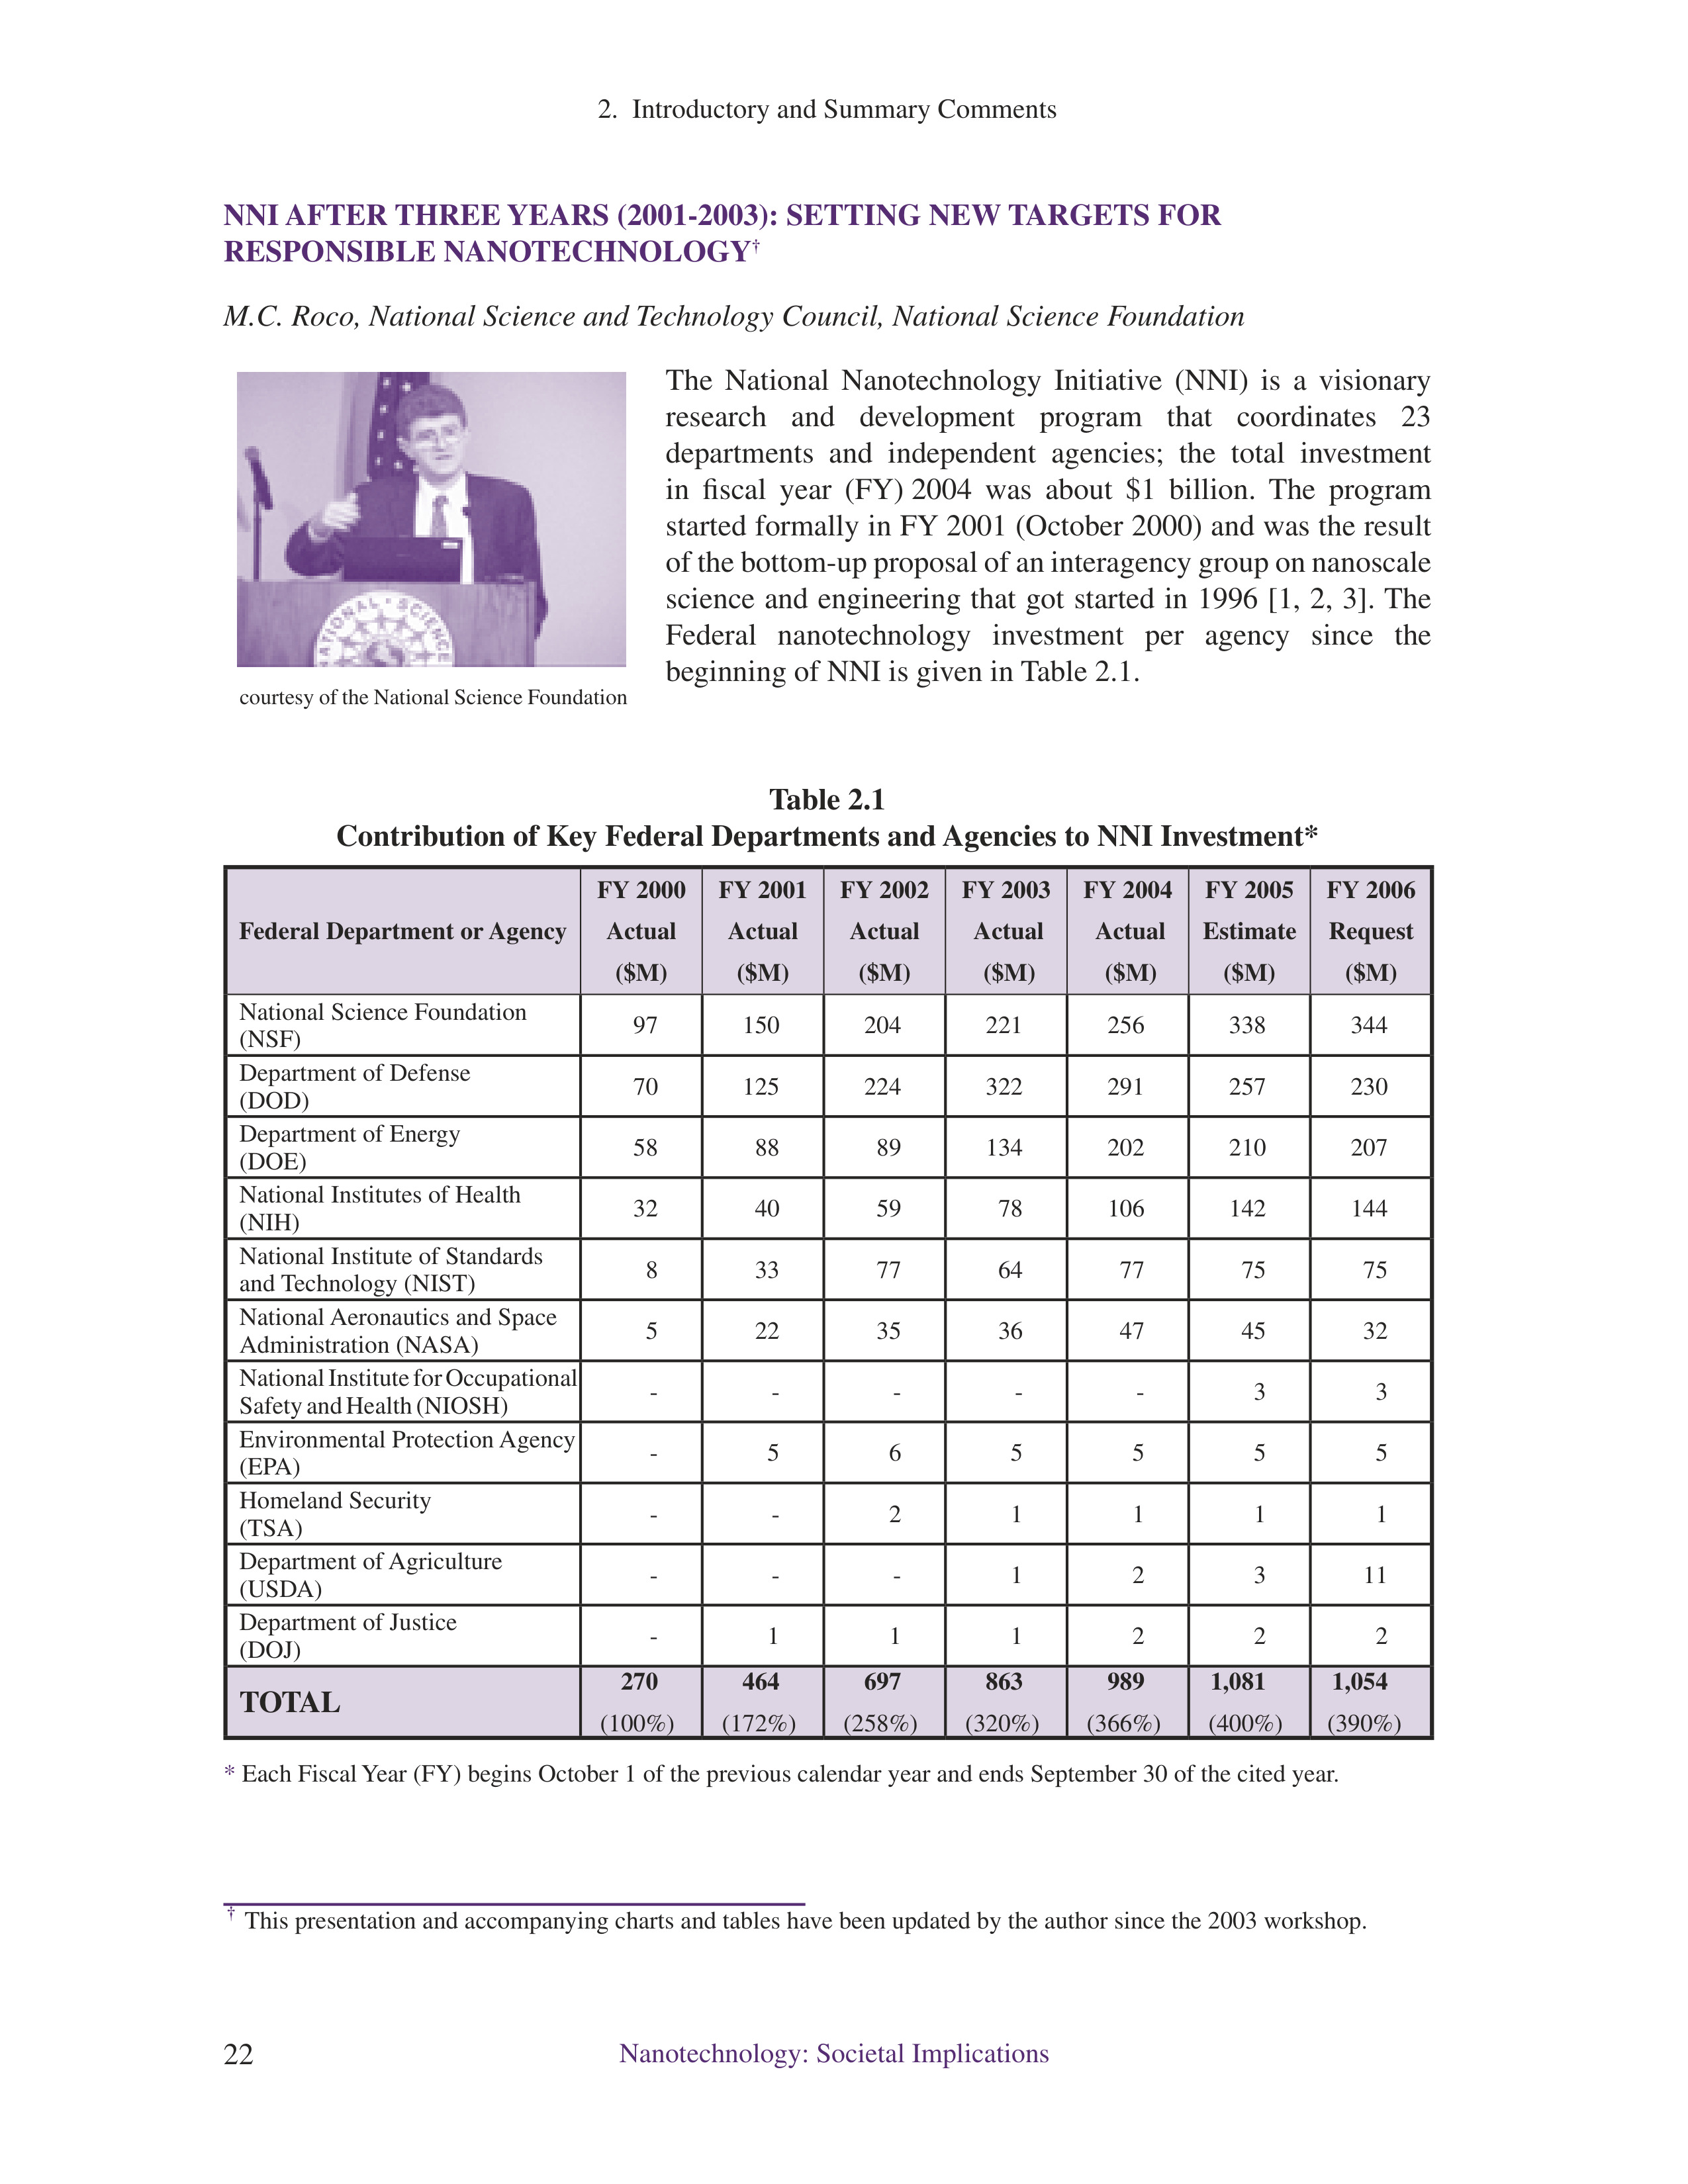table: (238, 874, 1415, 1737)
